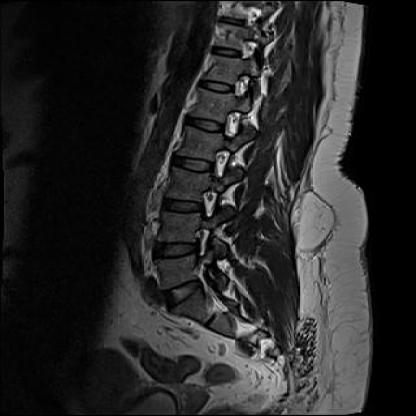Disc Bulgerotation: (157, 278, 212, 307)
